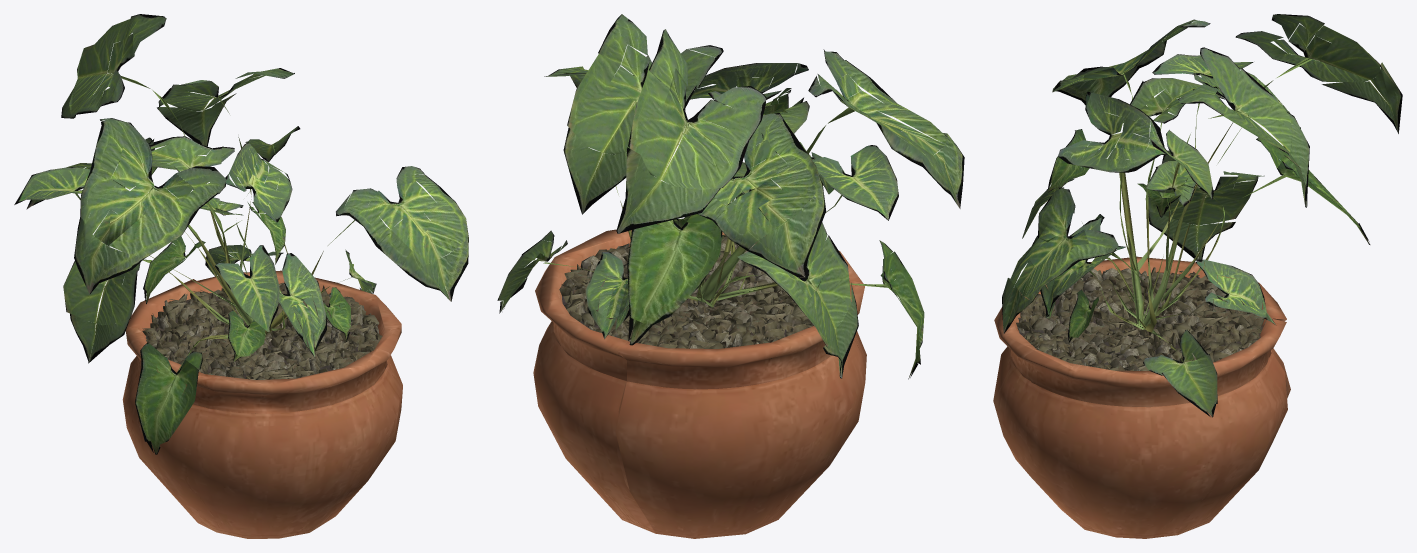
The model's file is potted_plant_02.glb.
3 views of the same model, side by side, from view 1: azimuth 30°, elevation 25°; view 2: azimuth 150°, elevation 25°; view 3: azimuth 270°, elevation 25° (orthographic). The views are drawn at different scales.
Visible parts, largest first — view 1: potted_plant_02_leaves, potted_plant_02_pot; view 2: potted_plant_02_leaves, potted_plant_02_pot; view 3: potted_plant_02_pot, potted_plant_02_leaves.
Part boxes in pixels (x1,y1,x2,y2): potted_plant_02_leaves: (14, 14, 468, 454); potted_plant_02_pot: (122, 270, 402, 538); potted_plant_02_leaves: (497, 14, 964, 379); potted_plant_02_pot: (533, 224, 866, 538); potted_plant_02_pot: (993, 256, 1290, 538); potted_plant_02_leaves: (1002, 14, 1402, 417).
Size of the model in its own units: 0.7009 by 0.8418 by 0.6578.
Materials: 2 (2 with a texture image).
